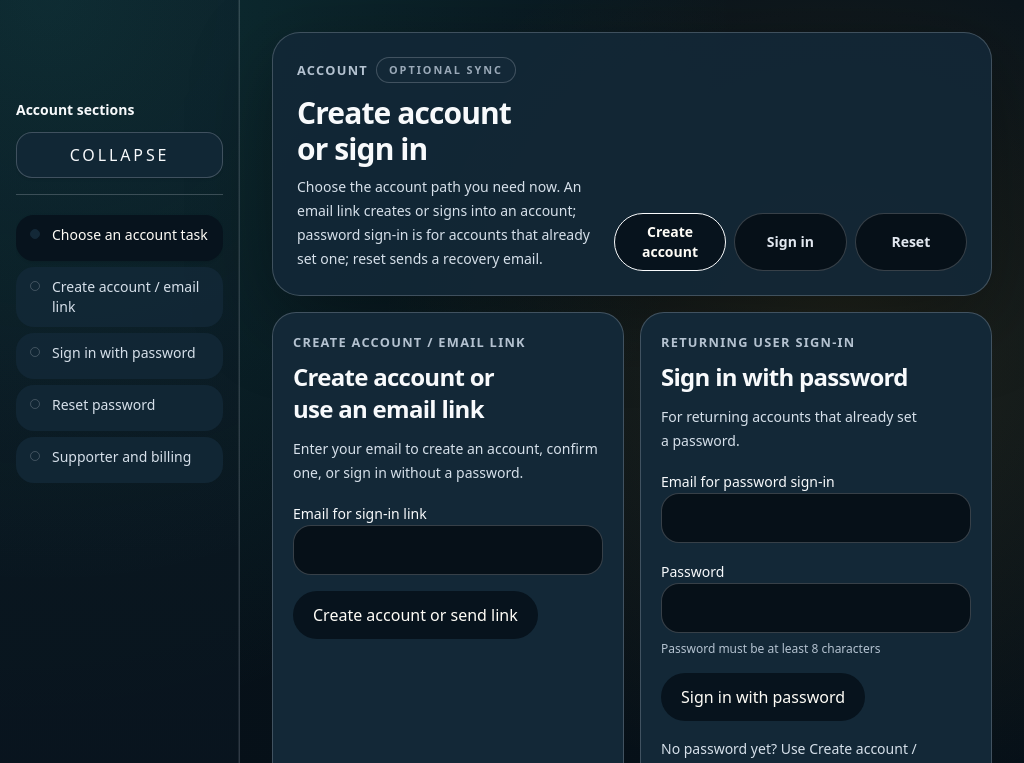
AccountPagePanel › shows inline validation for malformed email before password sign-in
The image size is (1024, 763).
Type "not-an-email" into the field labelled "Email for password sign-in".
click(816, 518); type("not-an-email")  # box [661, 492, 971, 542]
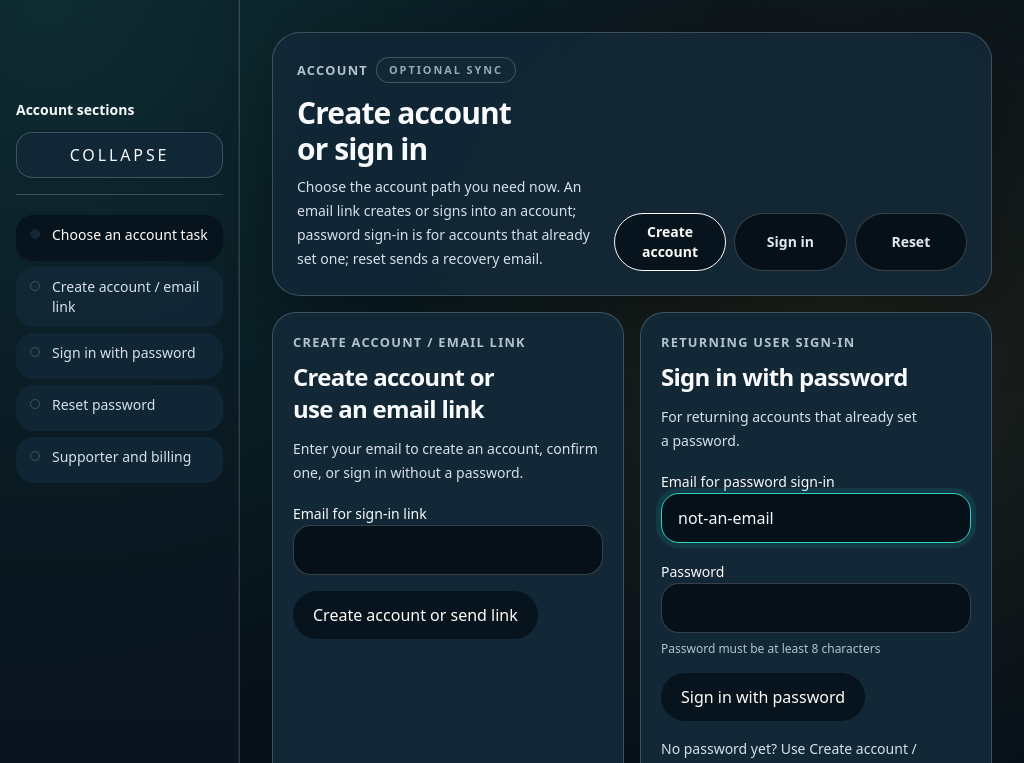
Type "password-123" into the password field labelled "Password".
click(816, 608); type("password-123")  # box [661, 582, 971, 632]
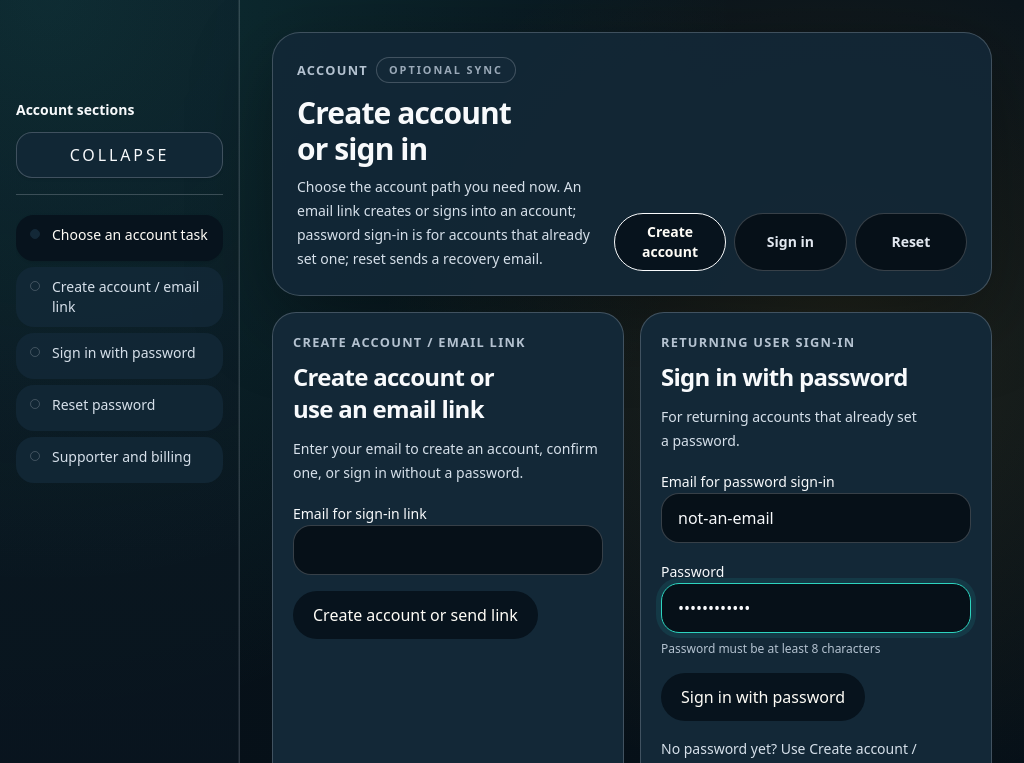
Click the button "Sign in with password".
click(763, 696)  # box [661, 672, 865, 720]
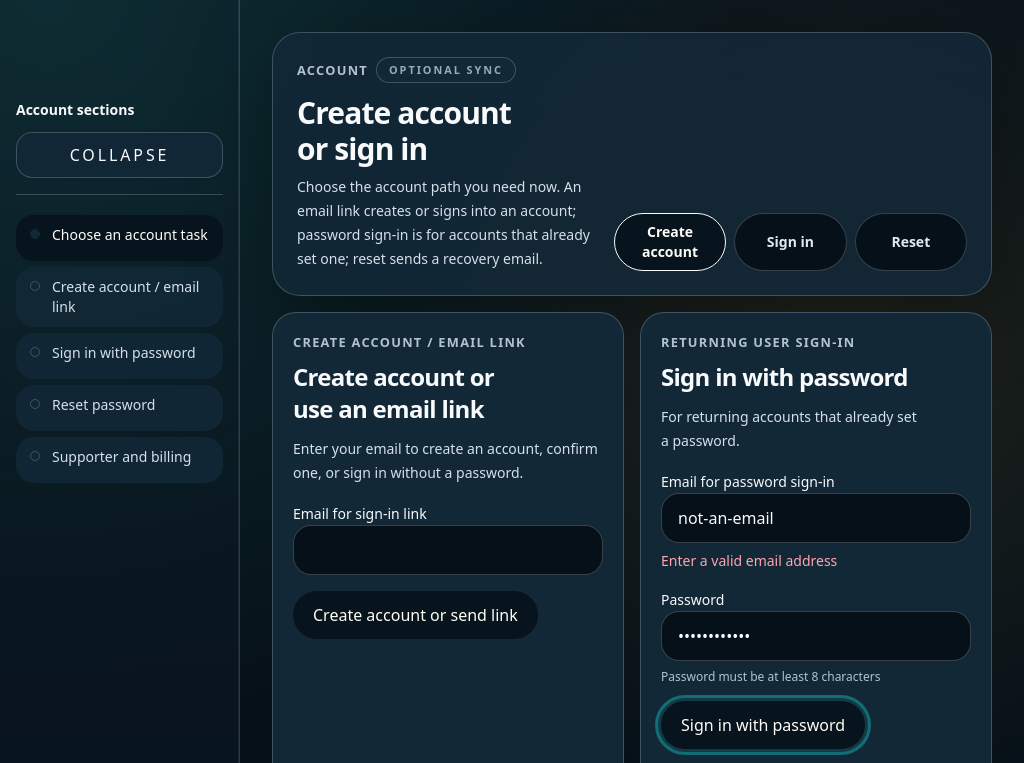
Now the text "Enter a valid email address" is shown, box [661, 550, 837, 570]
